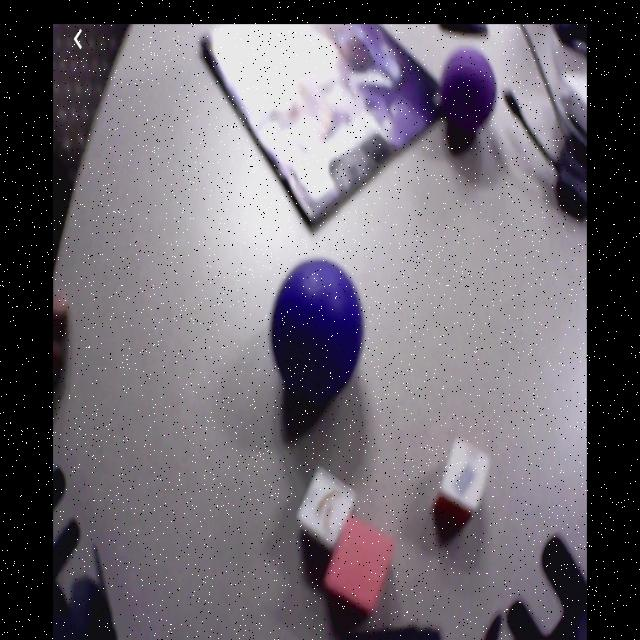ball: (273, 259, 363, 389), (442, 48, 497, 129)
